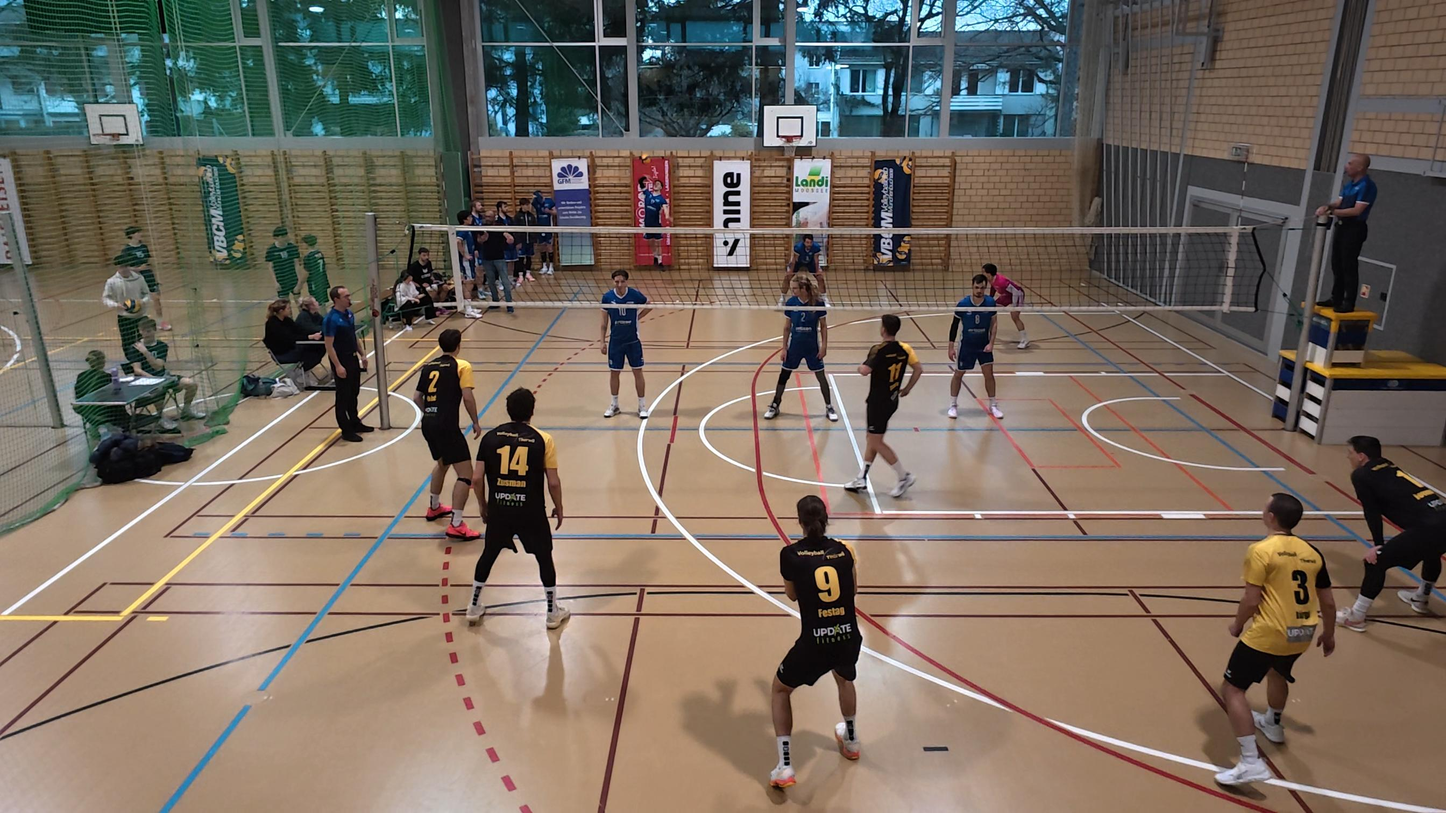battuta: (635, 147, 675, 269)
